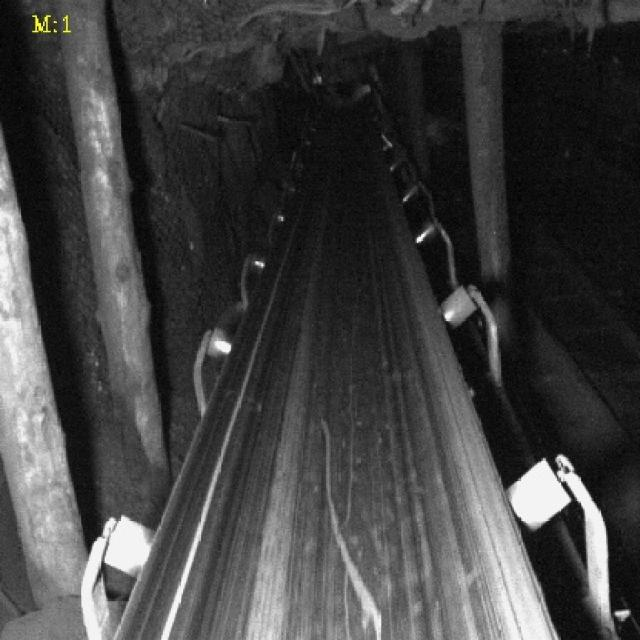bolt: (311, 408, 386, 637)
